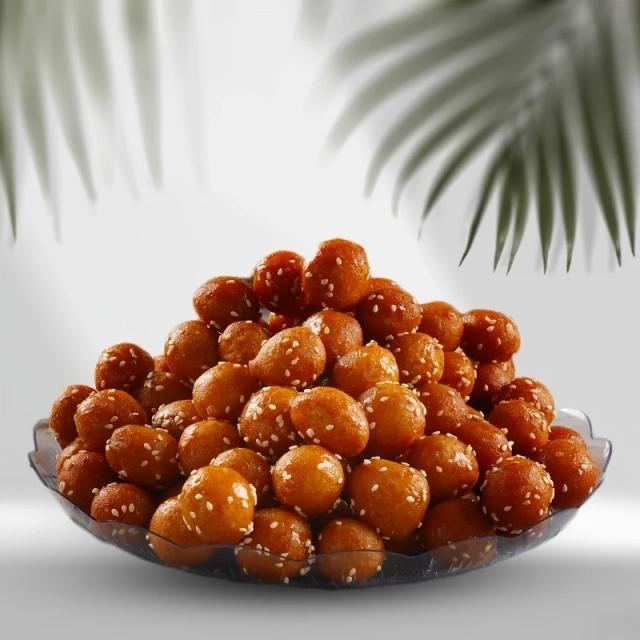Luqaimat: (96, 262, 585, 596)
